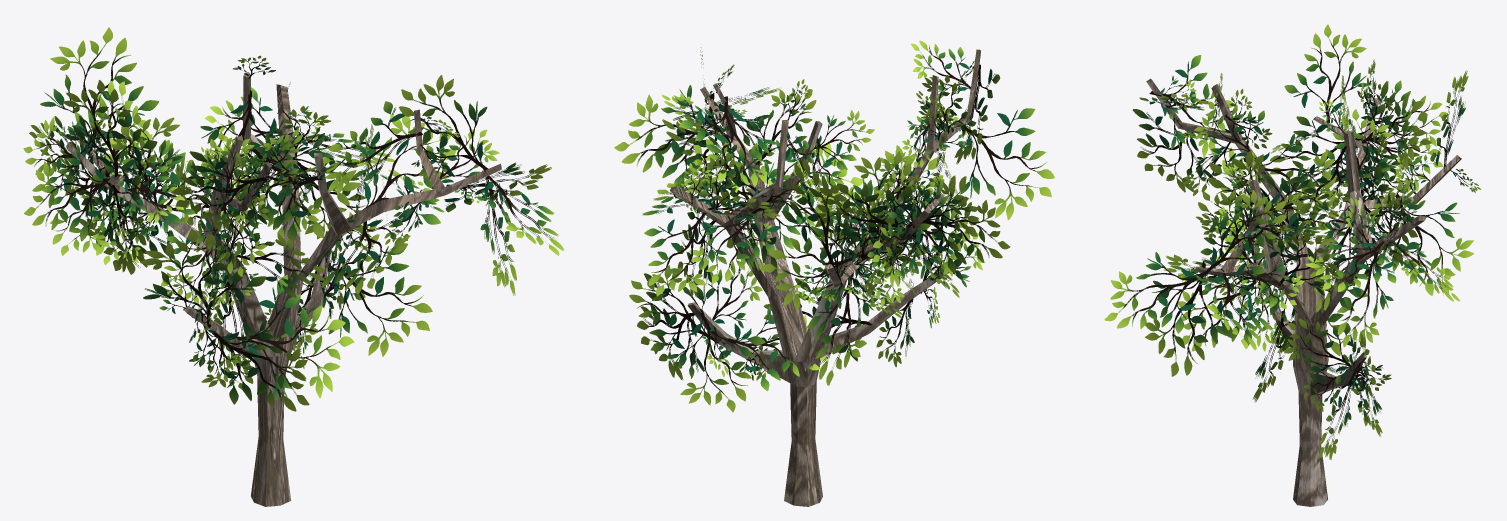
File: tree2.fbx
The picture shows the model from 3 angles, left to right: view 1: azimuth 30°, elevation 25°; view 2: azimuth 150°, elevation 25°; view 3: azimuth 270°, elevation 25°; orthographic projection. The views are drawn at different scales.
Visible parts, largest first — view 1: tree2_LOD0; view 2: tree2_LOD0; view 3: tree2_LOD0.
Boxes of the visible parts, x1,y1,x2,y2 form: tree2_LOD0: (23, 27, 564, 506); tree2_LOD0: (614, 40, 1054, 506); tree2_LOD0: (1104, 24, 1480, 506).
Size of what is drawn, in the model's own units: 674 by 619 by 537.
2 materials, 2 textured.
